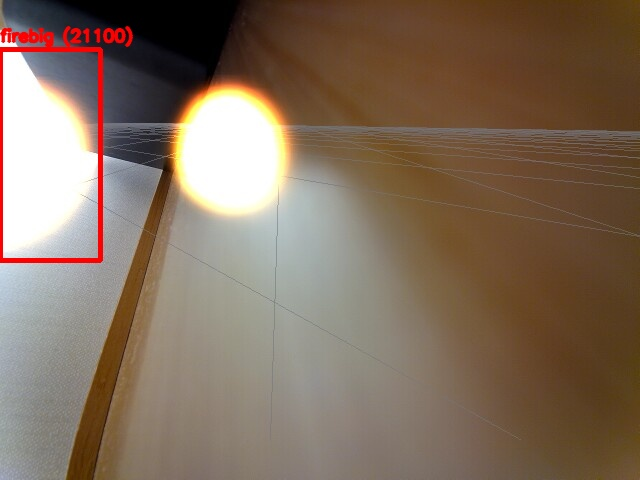firebig: (0, 49, 100, 260)
